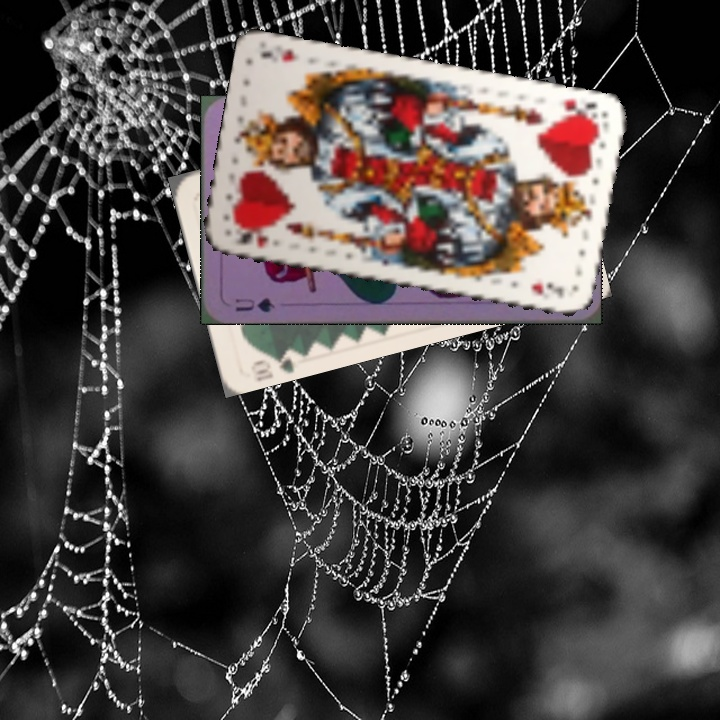G10: (246, 345, 301, 378)
GU: (231, 293, 278, 315)
HK: (557, 95, 602, 125), (232, 222, 272, 251)
